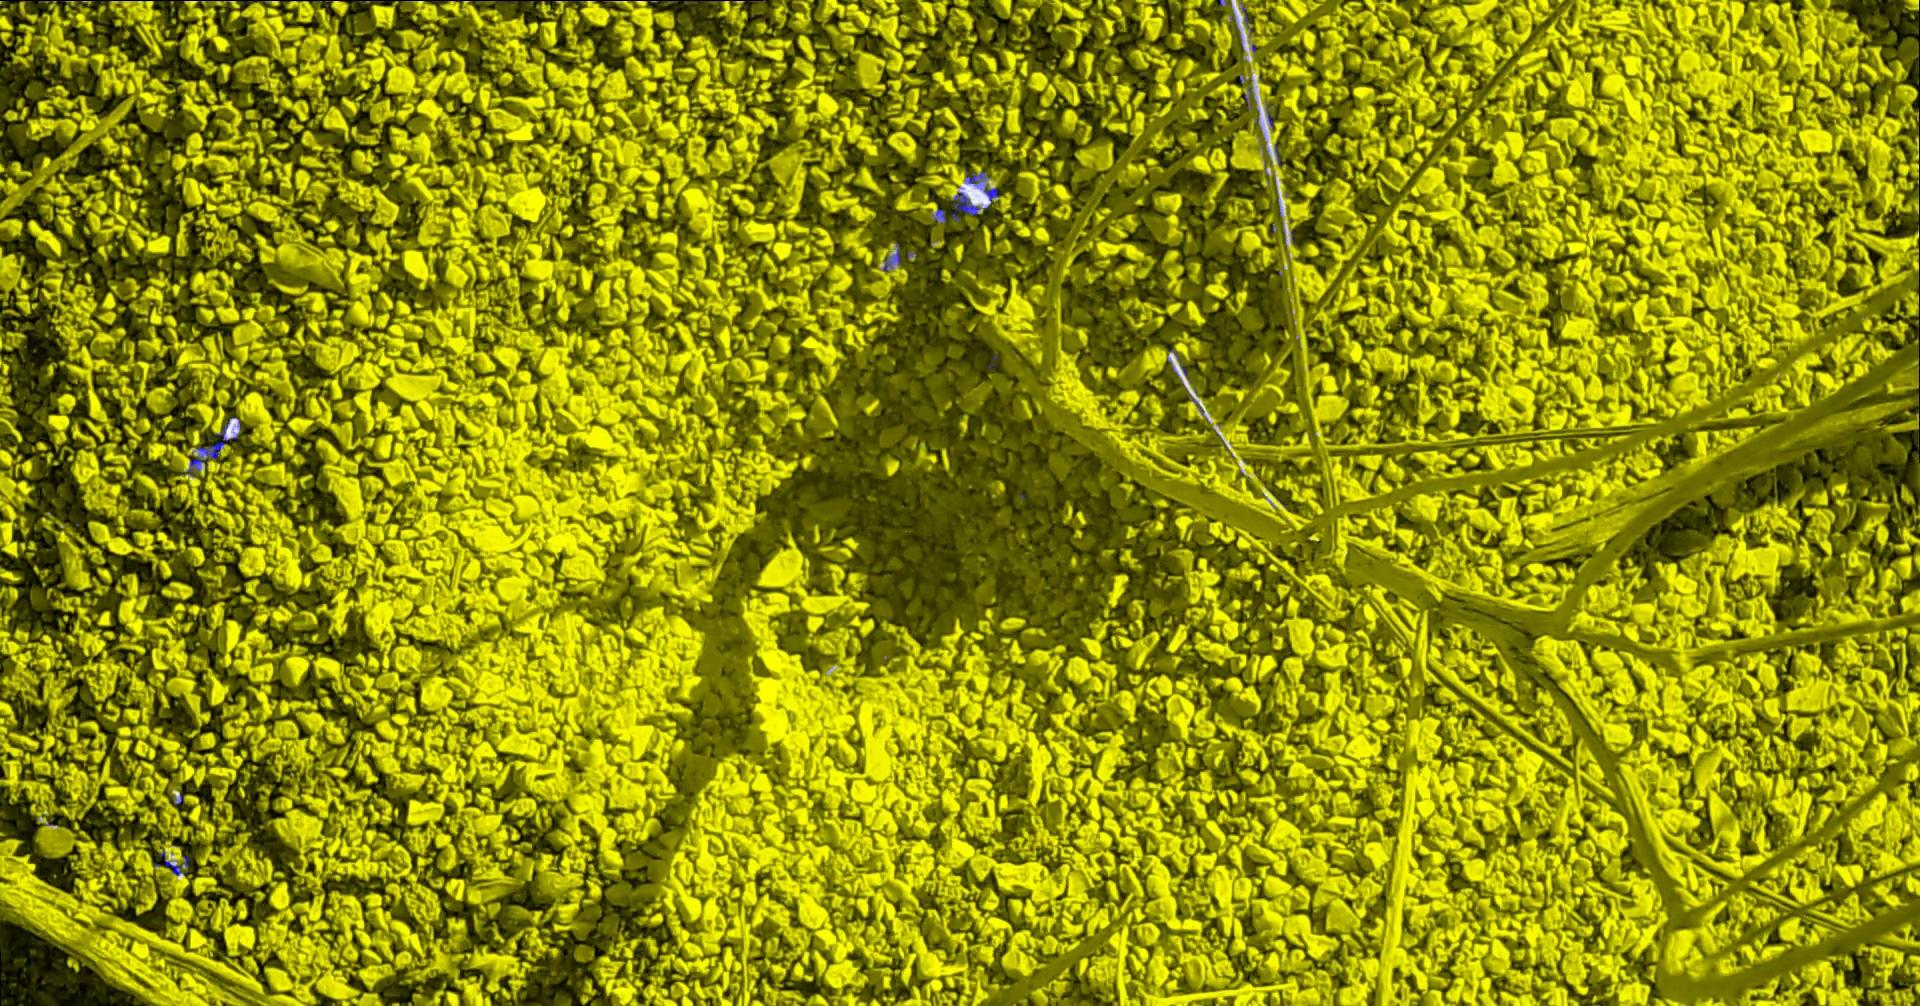ant: (180, 422, 229, 476), (951, 187, 997, 222), (152, 850, 189, 875), (883, 241, 899, 271), (965, 171, 988, 183)
